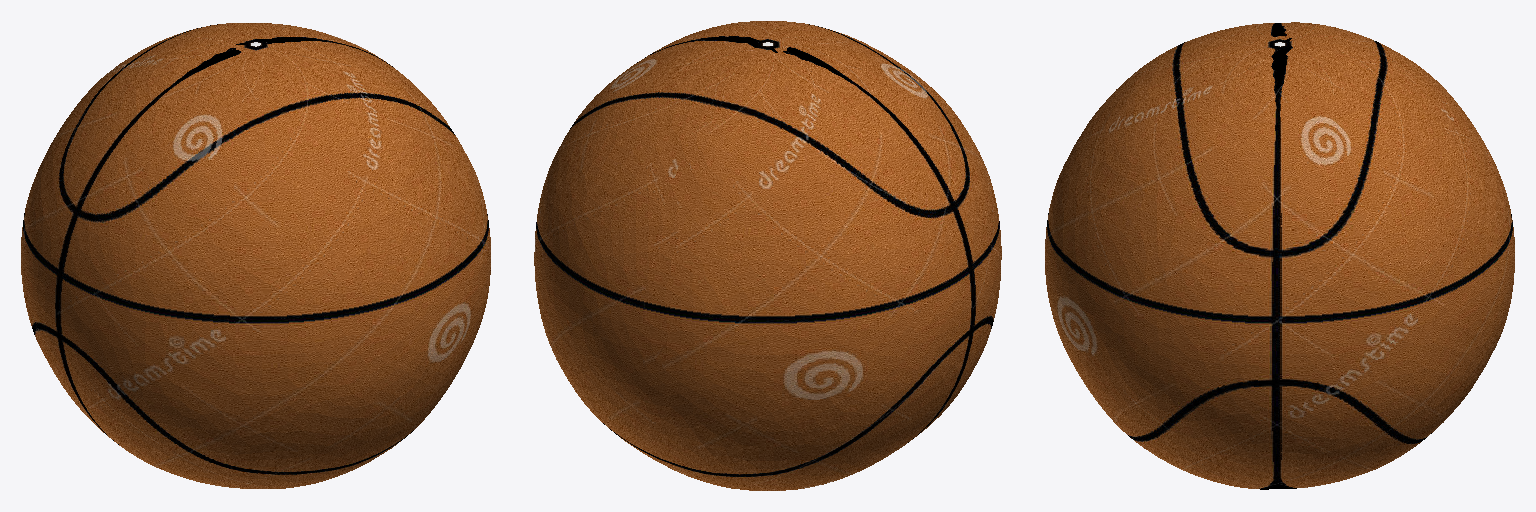
3 renders of one model, left to right at view 1: azimuth 30°, elevation 25°; view 2: azimuth 150°, elevation 25°; view 3: azimuth 270°, elevation 25°, orthographic.
Visible parts, largest first — view 1: Icosphere; view 2: Icosphere; view 3: Icosphere.
Part boxes in pixels (x1,y1,x2,y2): Icosphere: (21, 23, 490, 488); Icosphere: (534, 21, 1001, 490); Icosphere: (1045, 22, 1514, 489).
Size of the model in its own units: 4 by 4.01 by 4.03.
Materials: 1 (1 with a texture image).